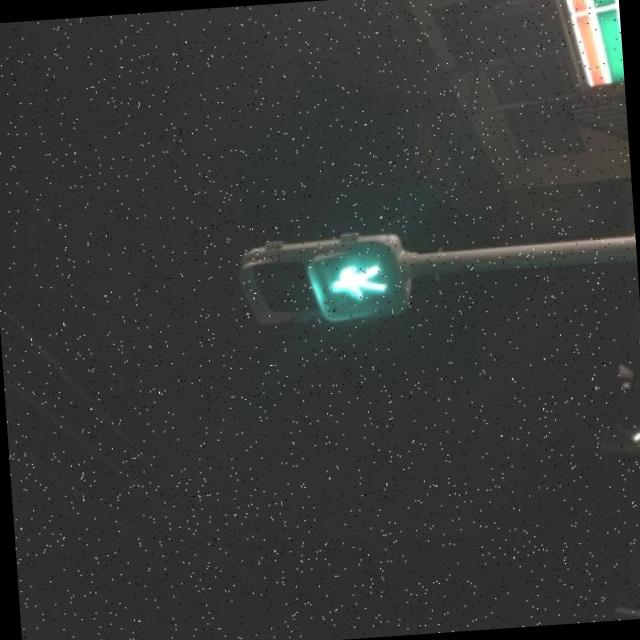green_light: (318, 255, 388, 315)
